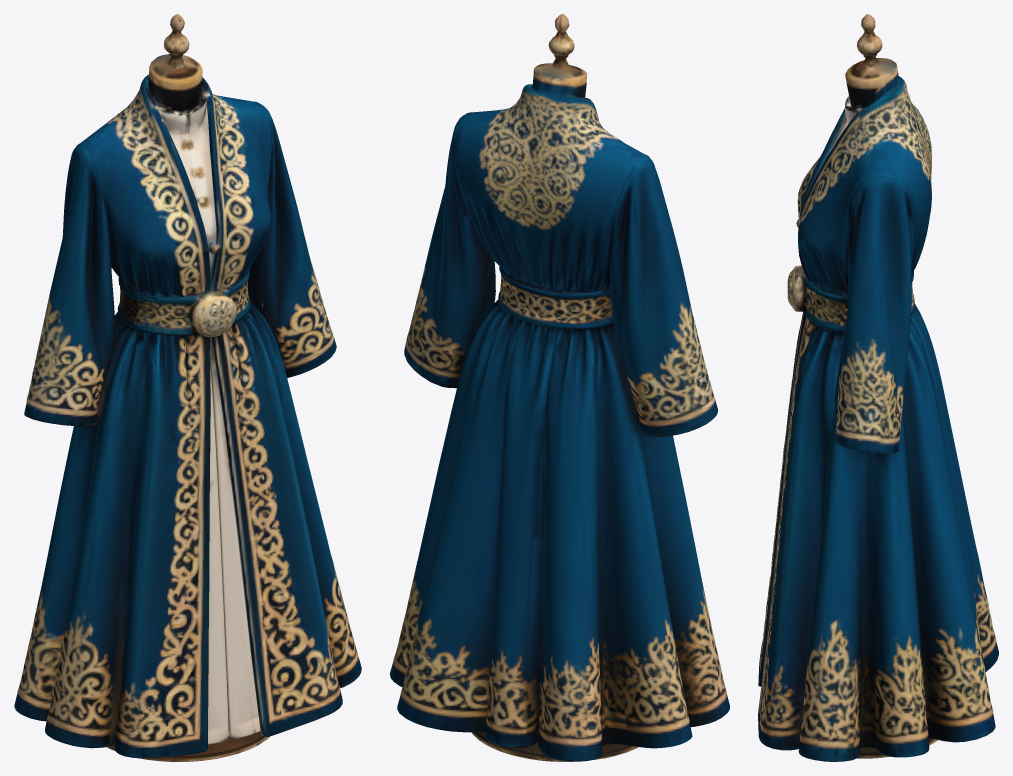
The model's file is vest-new.fbx.
3 views of the same model, side by side, from view 1: azimuth 30°, elevation 25°; view 2: azimuth 150°, elevation 25°; view 3: azimuth 270°, elevation 25° (orthographic).
Parts seen in each view (by area): view 1: node_0; view 2: node_0; view 3: node_0.
Part boxes in pixels (box(x1,y1,x2,y2)): node_0: box(14, 14, 361, 761); node_0: box(390, 14, 729, 761); node_0: box(758, 14, 998, 761).
Size of the model in its own units: 53.49 by 116 by 36.03.
Materials: 1 (1 with a texture image).
